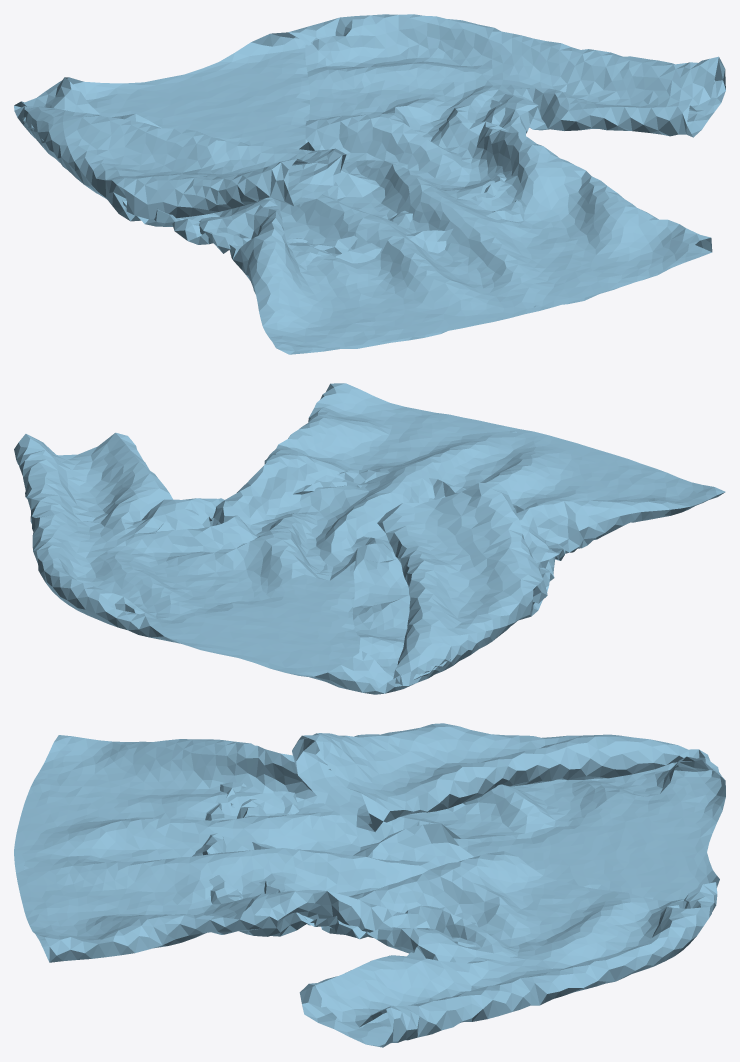
Rendered from frame_19.glb.
3 renders of one model, top to bottom at view 1: azimuth 30°, elevation 25°; view 2: azimuth 150°, elevation 25°; view 3: azimuth 270°, elevation 25°, orthographic. The views are drawn at different scales.
Visible parts, largest first — view 1: frame_19.obj; view 2: frame_19.obj; view 3: frame_19.obj.
Part boxes in pixels (<box>): frame_19.obj: <box>14,14,725,354</box>; frame_19.obj: <box>14,383,725,694</box>; frame_19.obj: <box>14,723,725,1047</box>.
Size of the model in its own units: 1.54 by 0.187 by 1.49.
